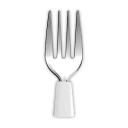fork: (40, 4, 93, 128)
